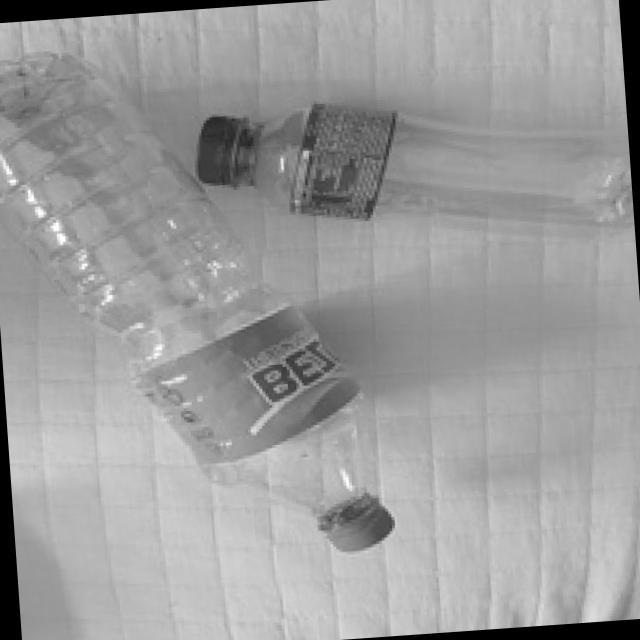good: (0, 22, 397, 581), (181, 75, 635, 272)
